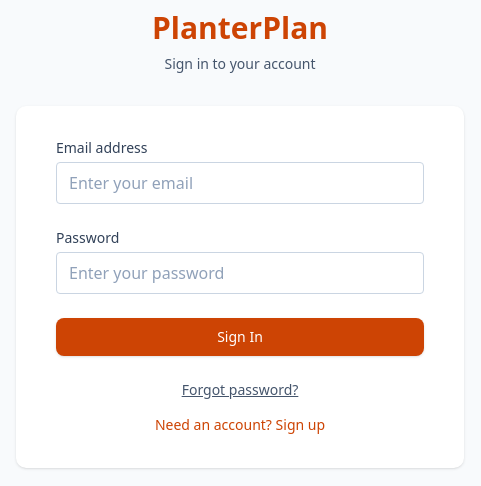
Test: LoginForm password recovery › shows forgot-password mode from the login form
Click the button "Forgot password?" at (240, 390), box [56, 380, 424, 400]
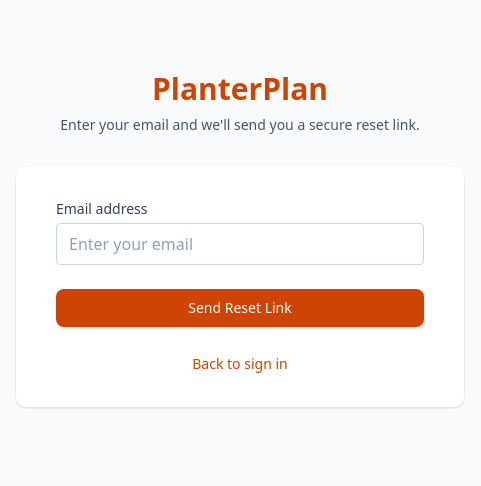
Check: the text "Enter your email and we'll send you a secure reset link." is shown, box [60, 115, 420, 134]
Check: the label labelled "Password" is gone
Check: the button "Send Reset Link" is shown, box [56, 289, 424, 327]
